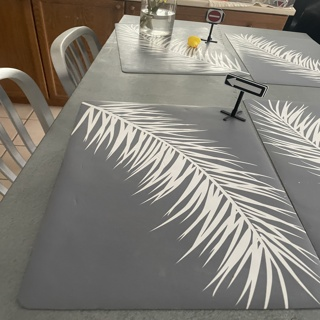sign_noentry: (205, 6, 221, 23)
sign_oneway_left: (226, 72, 264, 96)
